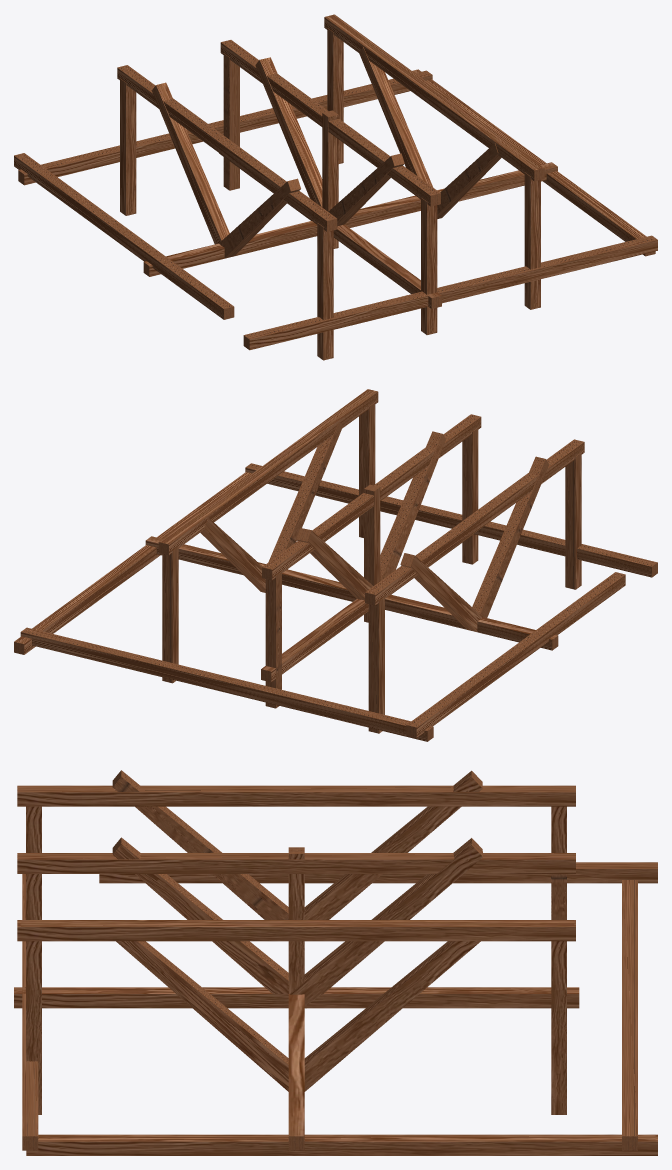
Rendered from beam.fbx.
3 views of the same model, one above another, from view 1: azimuth 30°, elevation 25°; view 2: azimuth 150°, elevation 25°; view 3: azimuth 270°, elevation 25° (orthographic). The views are drawn at different scales.
Parts seen in each view (by area): view 1: Beams; view 2: Beams; view 3: Beams.
Boxes of the visible parts, <box> form: Beams: <box>14,14,657,360</box>; Beams: <box>14,389,657,741</box>; Beams: <box>14,770,657,1155</box>.
Size of the model in its own units: 565 by 202 by 580.
Materials: 1 (1 with a texture image).
